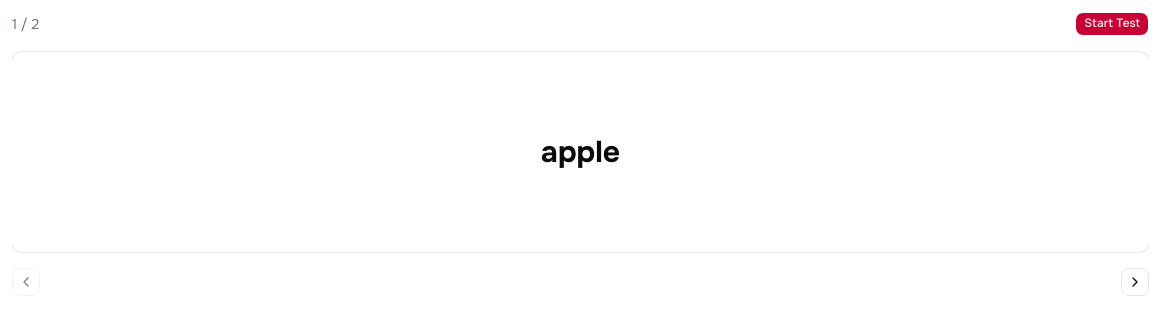
Test: VocabularyStudy › reveals translation and example on flip
What coordinates should you click on to do the following:
click the button with aria-label "flip card"
I would click on:
 (580, 152)
Its box is x1=12 y1=52 x2=1149 y2=252.
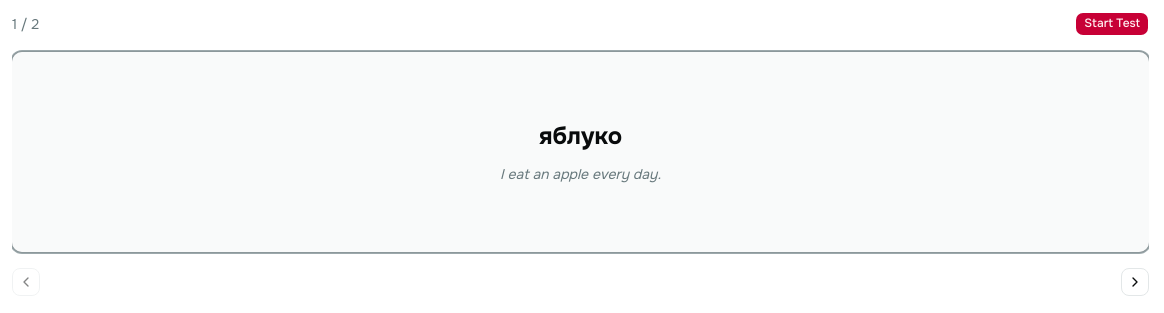
Check: the text "яблуко" is shown, box x1=539 y1=121 x2=622 y2=151
Check: the text "I eat an apple every day." is shown, box x1=500 y1=164 x2=661 y2=184
